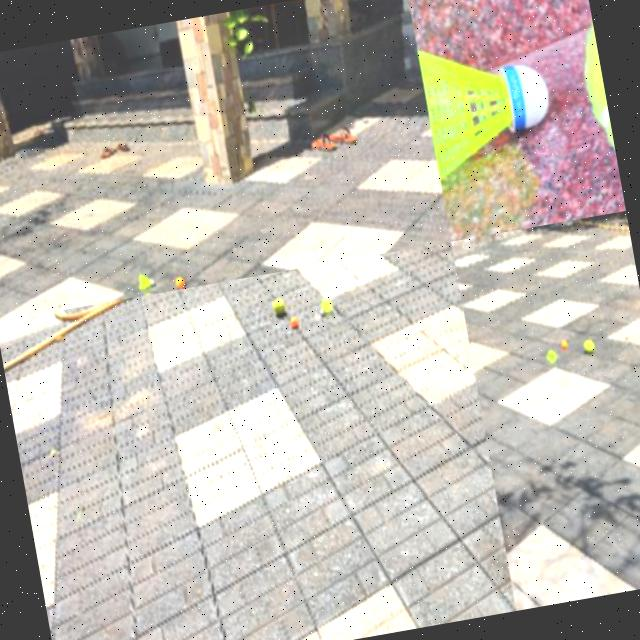ping-pong-ball: (175, 274, 187, 288), (290, 315, 298, 328), (560, 339, 568, 346)
